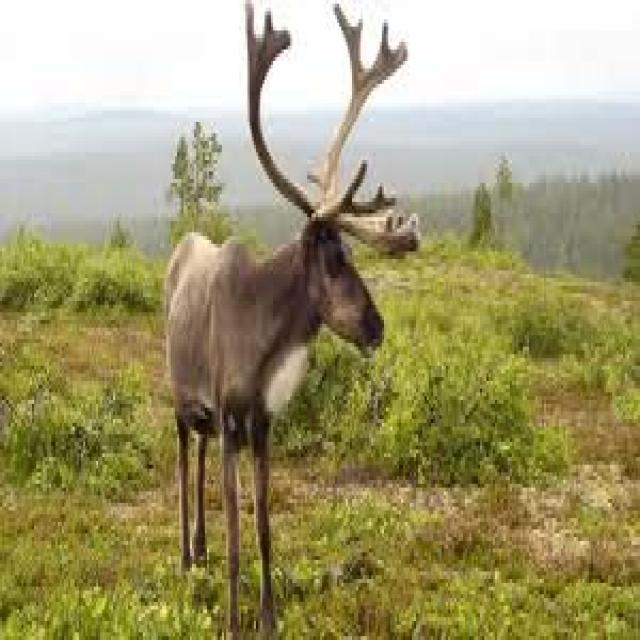reindeer: (166, 4, 416, 636)
